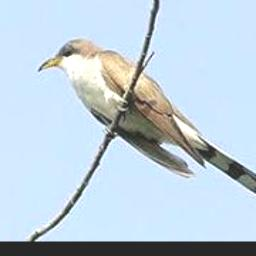Cuckoo: (40, 39, 256, 201)
